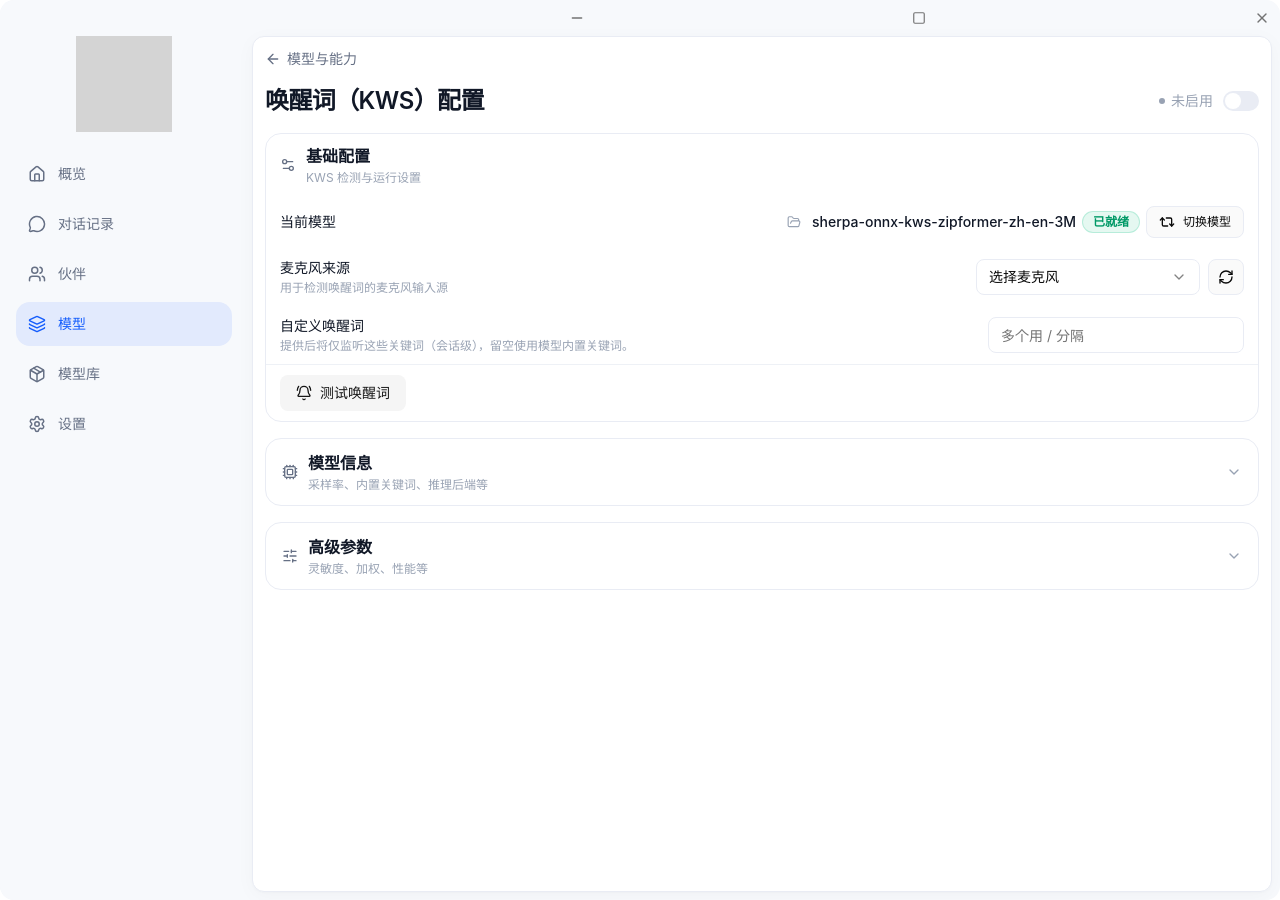
KwsPage（唤醒词配置） › 对话框打开自动启动的监听：关闭时自动停止（startedByDialog）
The width and height of the screenshot is (1280, 900).
Click the button "测试唤醒词" at (343, 393), box [280,375,406,411]
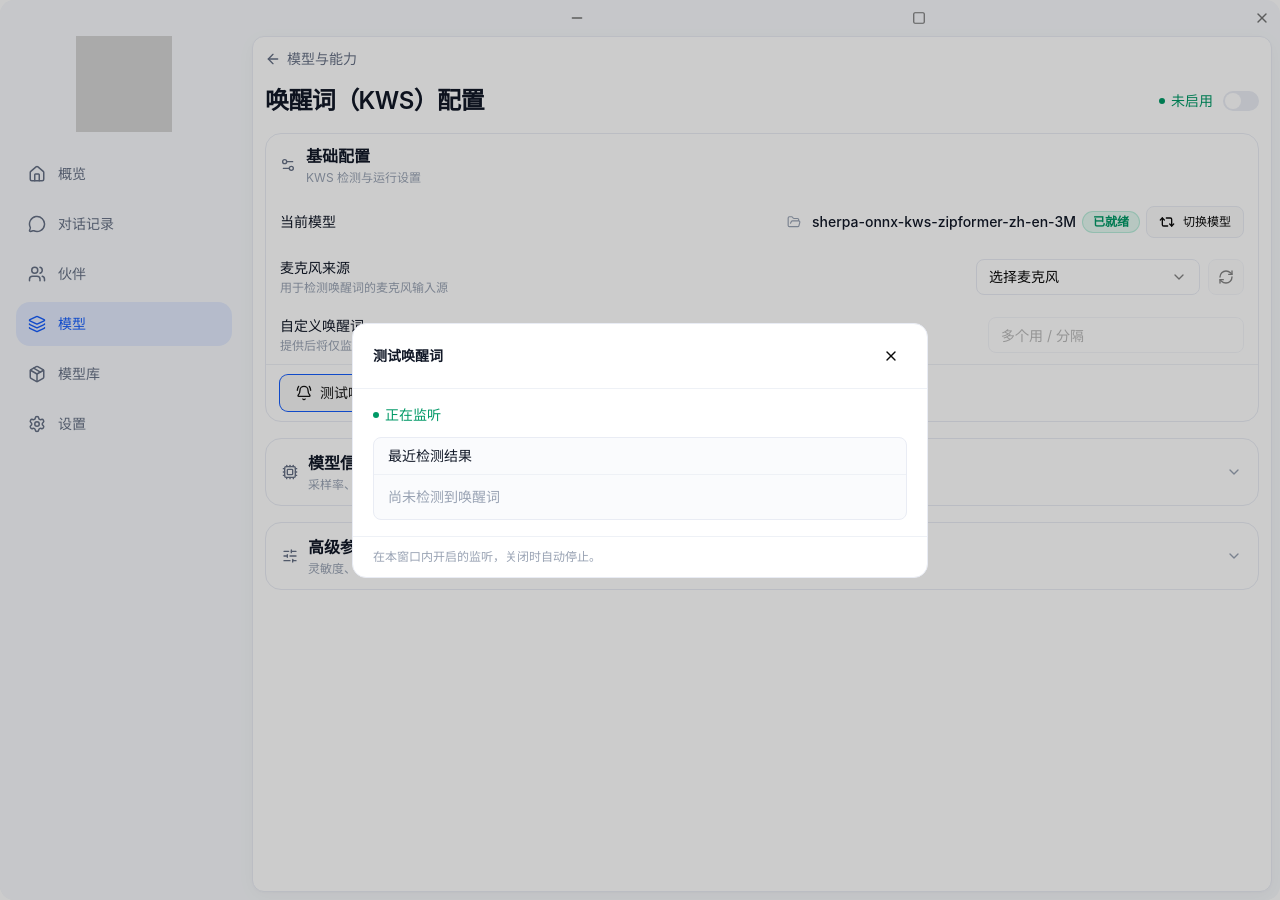
Press Escape
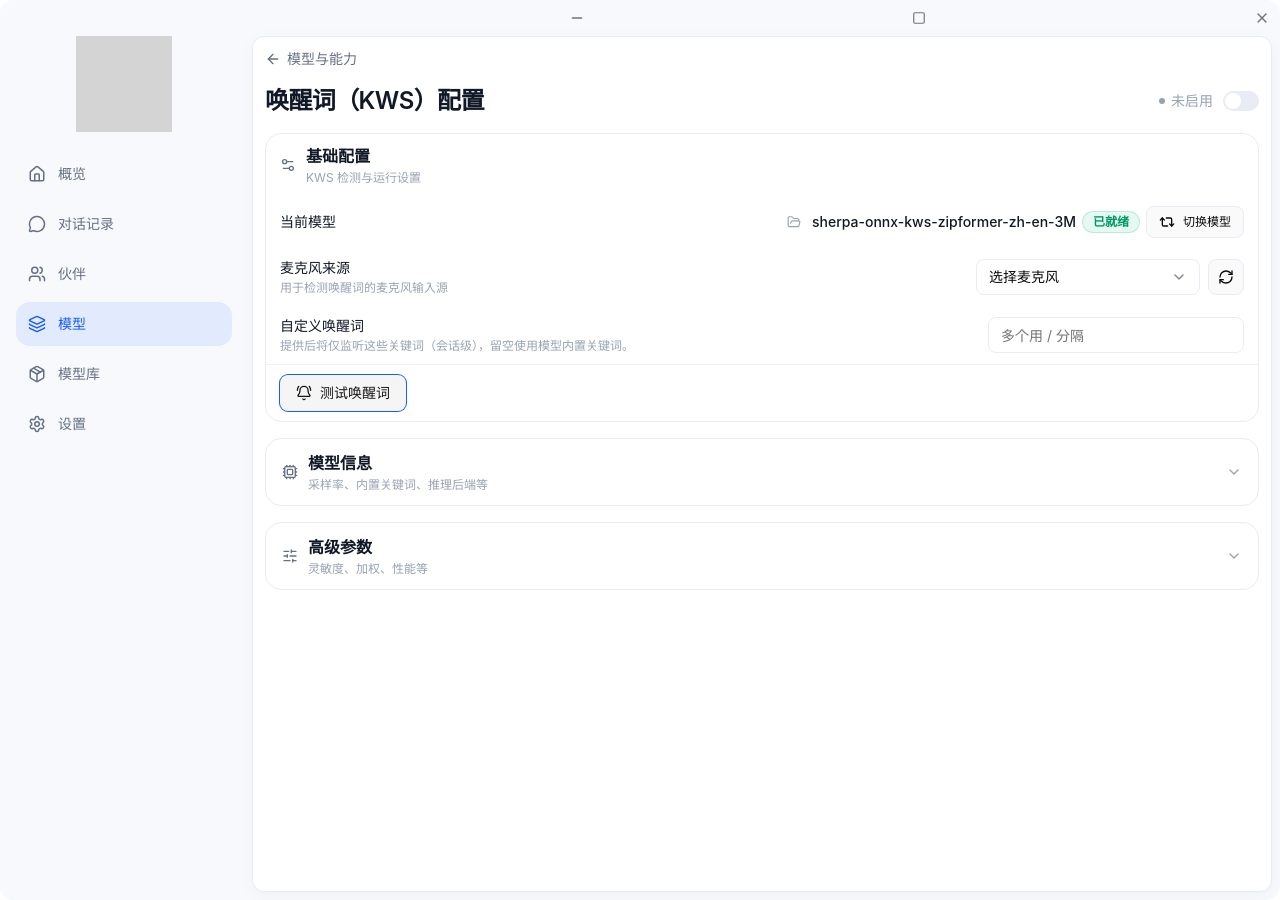
Expected: the dialog is gone
